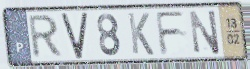8: (96, 12, 122, 57)
F: (153, 9, 187, 57)
K: (126, 11, 156, 58)
N: (187, 8, 222, 57)
R: (27, 13, 64, 60)
V: (60, 10, 89, 61)
